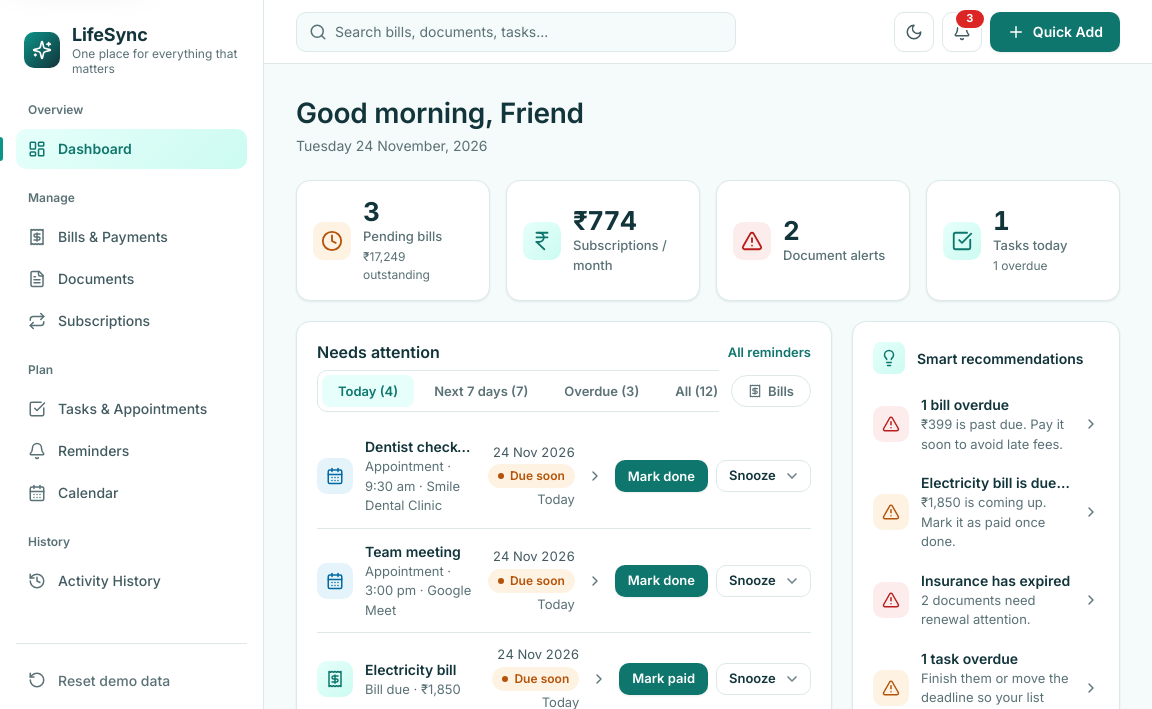
it: Quick Add › shows every missing required field, marks them invalid and focuses the first
This screenshot has width=1152, height=709.
Step 1. Click the button "Quick Add" → click(1055, 32), box top-left (990, 12), bottom-right (1120, 52)
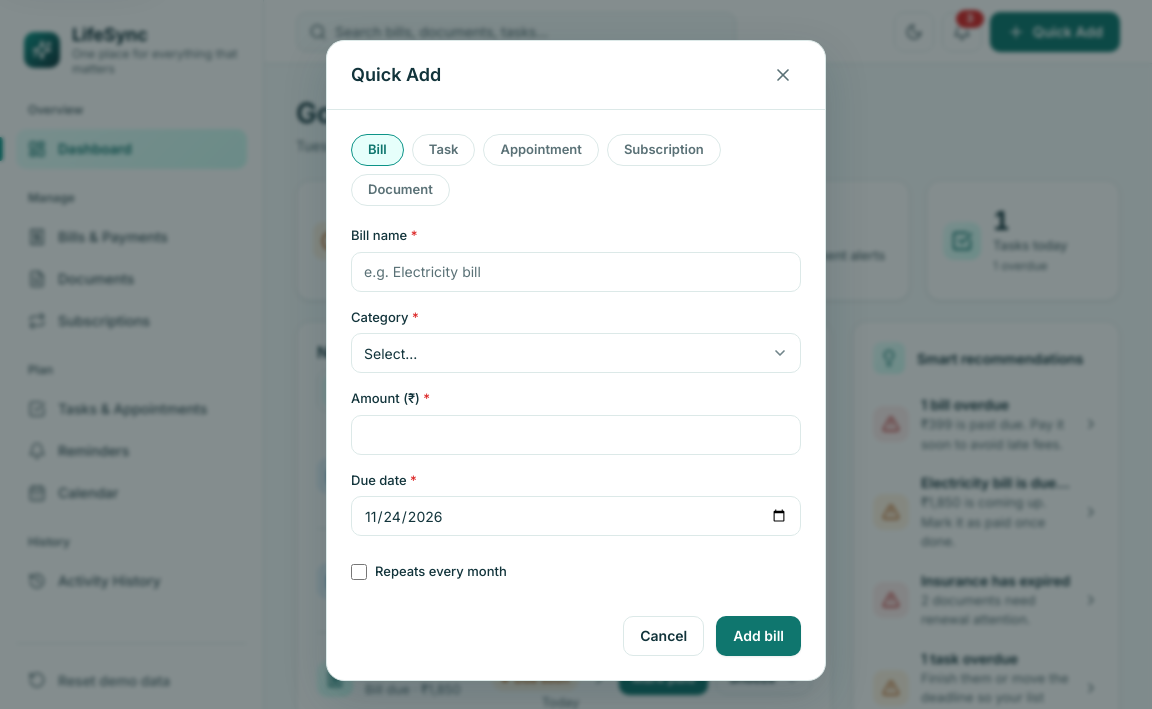
Step 2. Click the button "Add bill" → click(759, 636), box top-left (716, 616), bottom-right (801, 656)
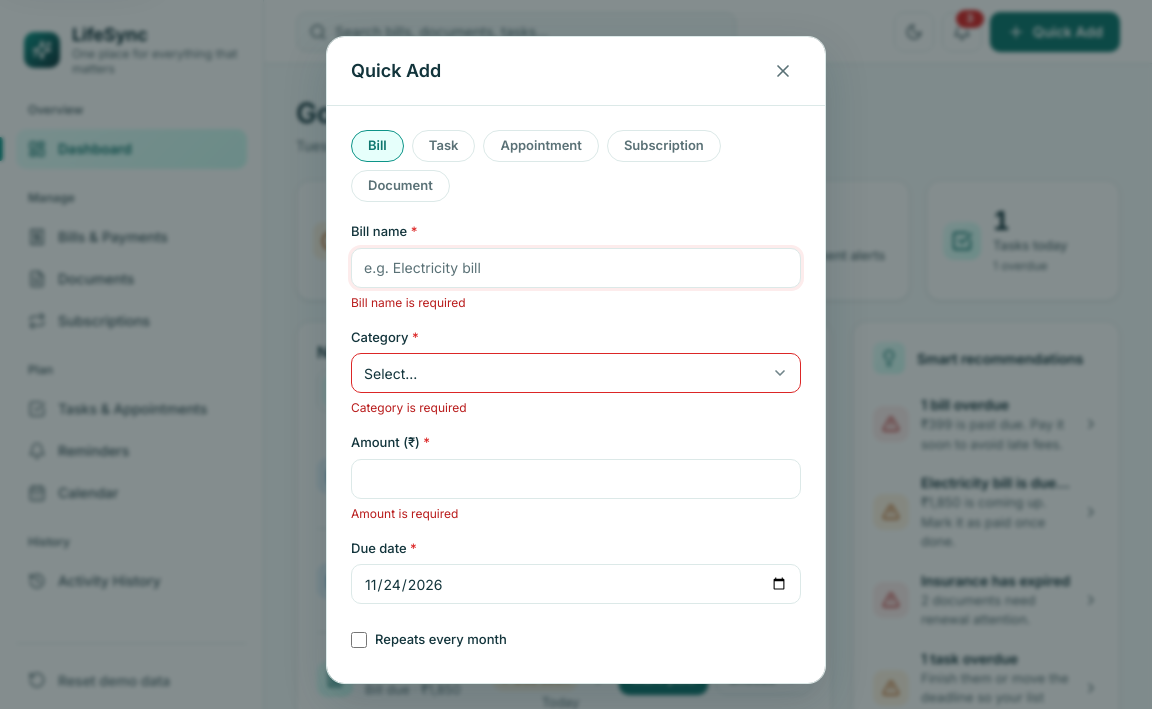
Expected: the text "Bill name is required" is shown, top-left (351, 294), bottom-right (466, 310)
Expected: the text "Category is required" is shown, top-left (351, 400), bottom-right (467, 415)
Expected: the text "Amount is required" is shown, top-left (351, 506), bottom-right (458, 520)
